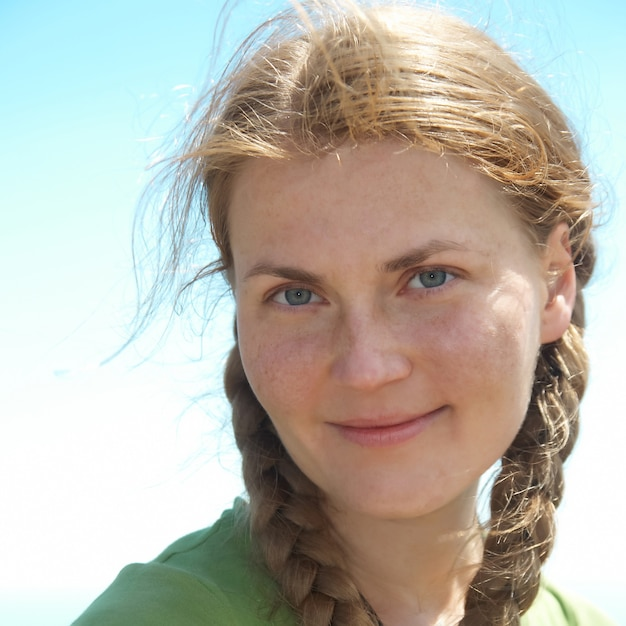teen: (200, 43, 573, 536)
